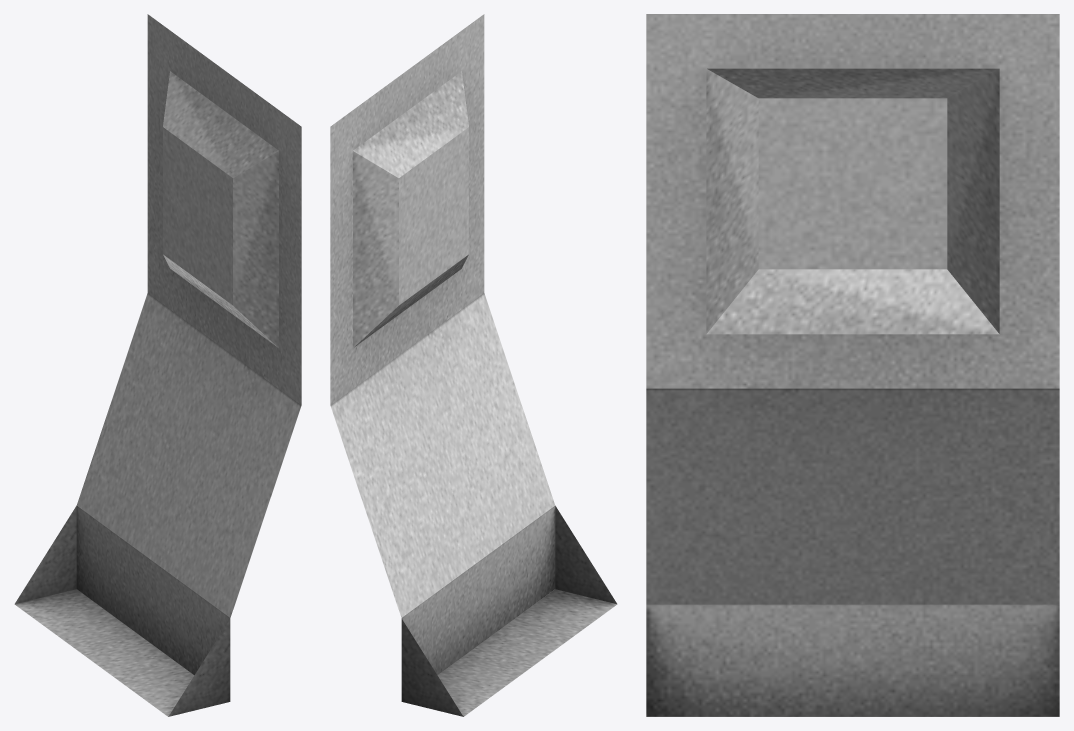
File: Mod2D_Background_02.fbx
The picture shows the model from 3 angles, left to right: view 1: azimuth 30°, elevation 25°; view 2: azimuth 150°, elevation 25°; view 3: azimuth 270°, elevation 25°; orthographic projection. The views are drawn at different scales.
Visible parts, largest first — view 1: Cube_029; view 2: Cube_029; view 3: Cube_029.
Boxes of the visible parts, x1,y1,x2,y2 form: Cube_029: [14, 14, 301, 716]; Cube_029: [330, 14, 617, 716]; Cube_029: [646, 14, 1059, 716].
Size of the model in its own units: 0.5 by 2 by 1.
